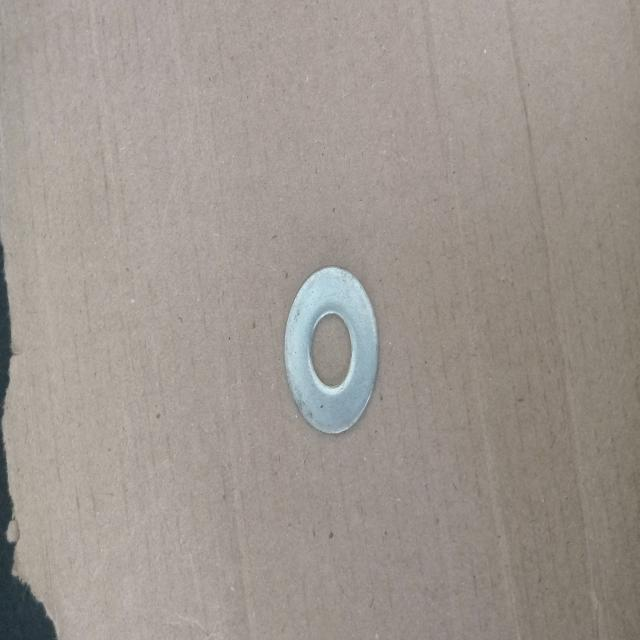washer: (283, 266, 381, 434)
